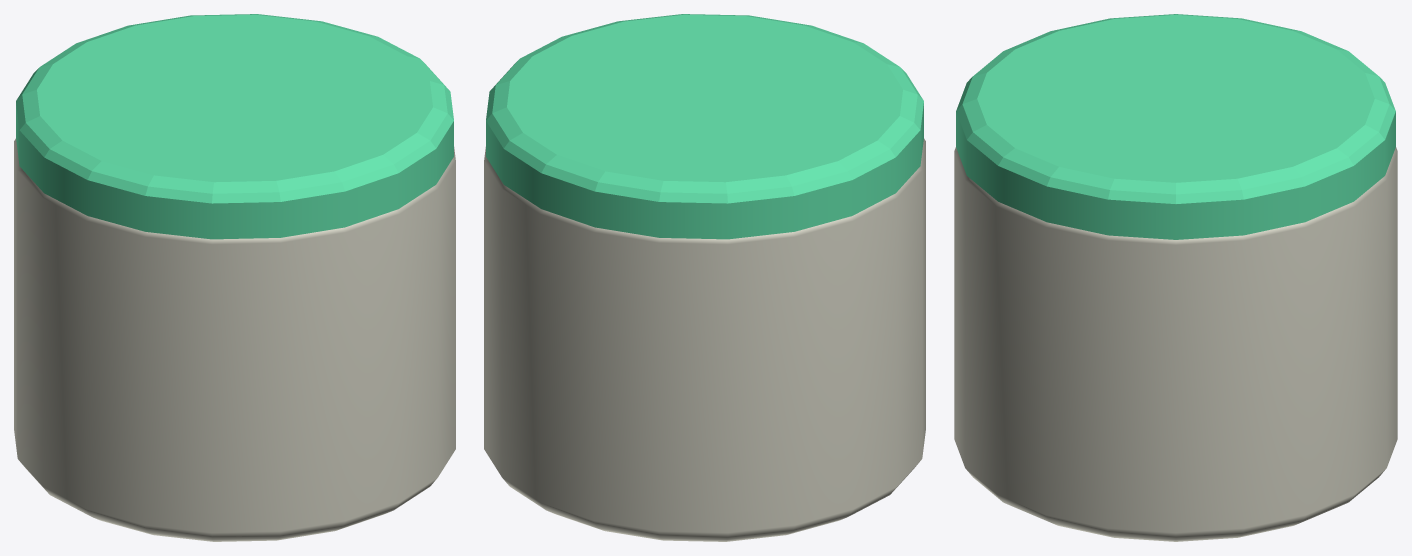
The model's file is Cream1.fbx.
3 views of the same model, side by side, from view 1: azimuth 30°, elevation 25°; view 2: azimuth 150°, elevation 25°; view 3: azimuth 270°, elevation 25° (orthographic).
Parts seen in each view (by area): view 1: pCylinder8, pCylinder9; view 2: pCylinder8, pCylinder9; view 3: pCylinder8, pCylinder9.
Part boxes in pixels (bbox=[...]): pCylinder8: bbox=[14, 138, 455, 541]; pCylinder9: bbox=[16, 14, 453, 239]; pCylinder8: bbox=[484, 138, 925, 541]; pCylinder9: bbox=[486, 14, 923, 239]; pCylinder8: bbox=[954, 147, 1397, 541]; pCylinder9: bbox=[956, 14, 1395, 239].
Bounding box in the file's own units: 17.95 × 16 × 17.95.
